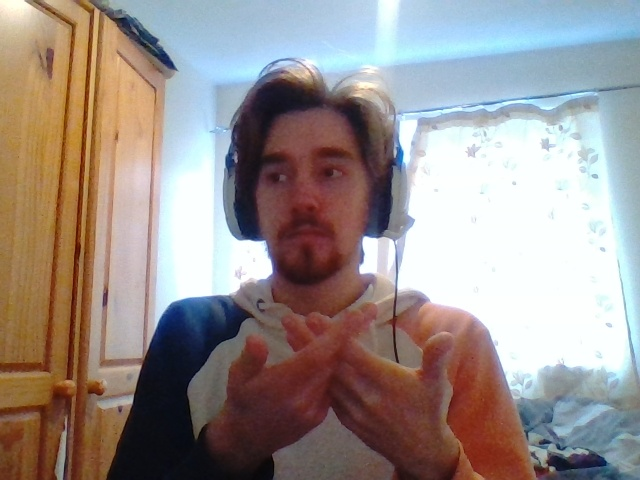how: (218, 303, 454, 449)
